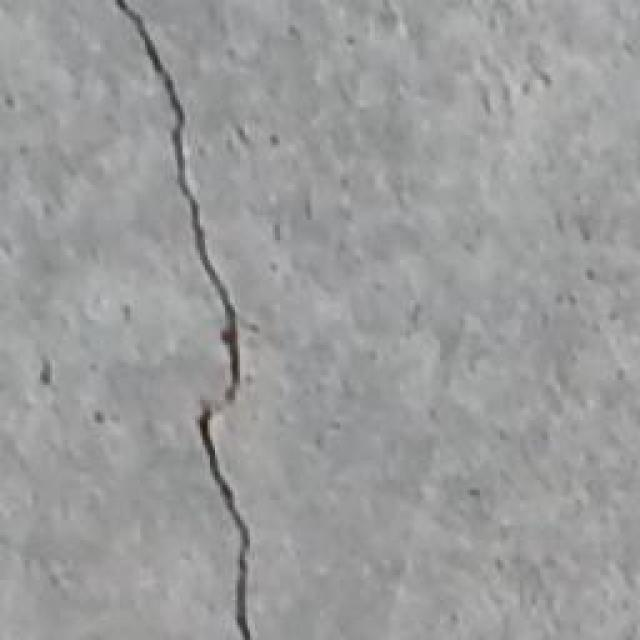concrete-crack: (112, 0, 240, 405), (198, 408, 250, 640)
